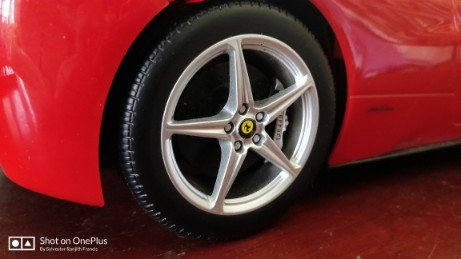aligned_wheel: (100, 1, 339, 245)
